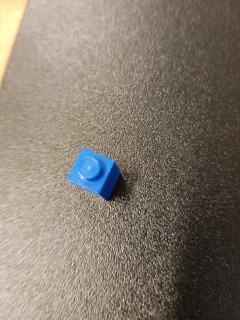1x1 blue: (64, 146, 123, 204)
